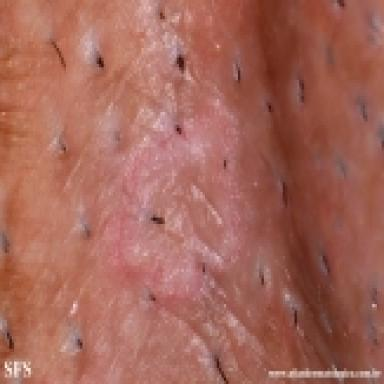Porokeratosis: (123, 93, 252, 309)
